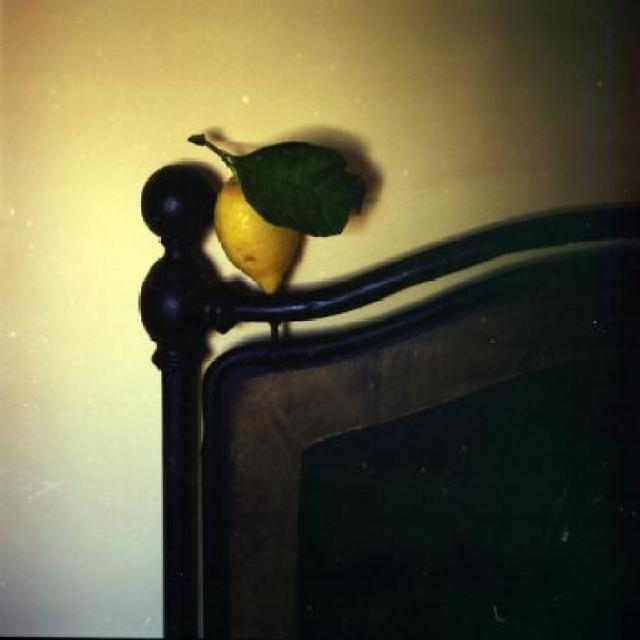Lemon: (212, 174, 306, 298)
